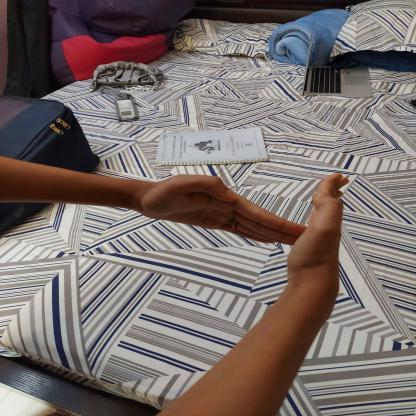Z: (134, 158, 366, 298)
